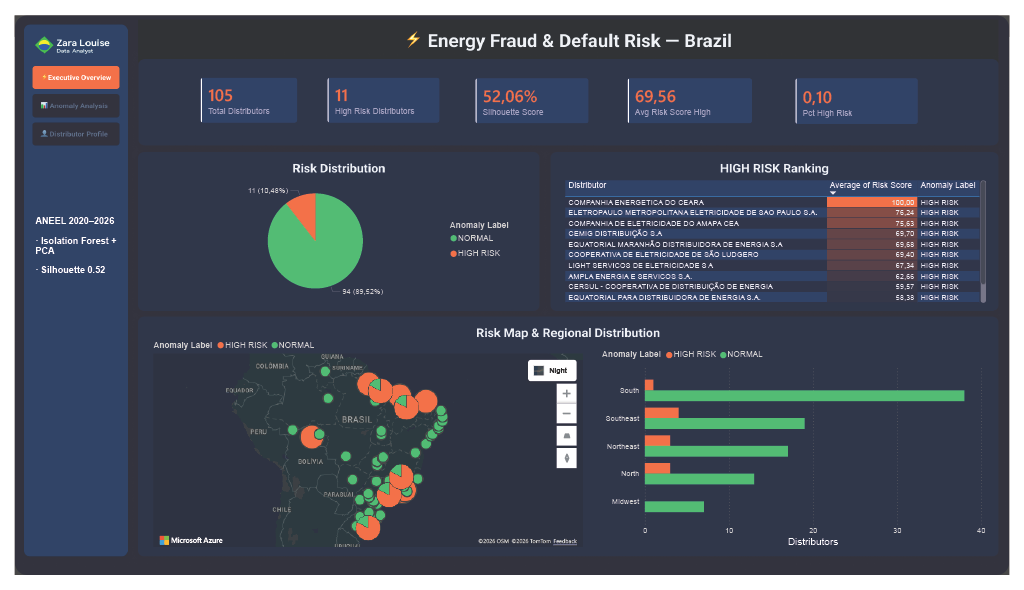

This screenshot's page, from the dashboard's own definition file:
{"tool":"powerbi","page":{"name":"Executive Overview","canvas":[1600,900],"ordinal":0},"visuals":[{"type":"azureMap","fields":{"Y":["dim_uf.latitude"],"X":["dim_uf.longitude"],"Series":["Risk Scores.anomaly_label"],"Size":["Avg(Risk Scores.risk_score)"]},"box":[218.1,509.9,701.3,349.9],"z":0},{"type":"textbox","box":[28.3,318.3,145,171.7],"z":1000},{"type":"cardVisual","fields":{"Data":["measures_.Total Distributors"]},"box":[282.1,83.5,189.8,106.7],"z":2000},{"type":"cardVisual","fields":{"Data":["measures_.High Risk Distributors"]},"box":[486.1,83.5,214.9,106.7],"z":3000},{"type":"cardVisual","fields":{"Data":["measures_.Silhouette Score"]},"box":[724.1,83.9,216.1,106.9],"z":4000},{"type":"cardVisual","fields":{"Data":["measures_.Avg Risk Score High"]},"box":[969,83.9,234.5,106.9],"z":5000},{"type":"cardVisual","fields":{"Data":["measures_.Pct High Risk"]},"box":[1239.3,84.4,231.6,107.4],"z":6000},{"type":"tableEx","fields":{"Values":["Risk Scores.distributor_name","Avg(Risk Scores.risk_score)","Risk Scores.anomaly_label"]},"box":[880,260,688.3,206.7],"z":7000},{"type":"pieChart","fields":{"Category":["Risk Scores.anomaly_label"],"Y":["measures_.Total Distributors"]},"box":[262.3,259.2,553.7,207.1],"z":8000},{"type":"clusteredBarChart","fields":{"Category":["risk_scores_region.region"],"Y":["Count(risk_scores_region.distributor_code)"],"Series":["risk_scores_region.anomaly_label"]},"box":[940.2,526.1,627.3,334.4],"z":9000},{"type":"actionButton","box":[28.1,125,146.1,39.8],"z":9001},{"type":"actionButton","box":[27.3,171.1,146.1,39.8],"z":9002}]}

Visuals, with their boxes in screenshot pixels (x1, y1, x2, y2), scaled from the page's 1600x900 canvas onto the 1024x590 screenshot:
azureMap - dim_uf.latitude x dim_uf.longitude: (x1=140, y1=334, x2=588, y2=564)
textbox: (x1=18, y1=209, x2=111, y2=321)
cardVisual - measures_.Total Distributors: (x1=181, y1=55, x2=302, y2=125)
cardVisual - measures_.High Risk Distributors: (x1=311, y1=55, x2=449, y2=125)
cardVisual - measures_.Silhouette Score: (x1=463, y1=55, x2=602, y2=125)
cardVisual - measures_.Avg Risk Score High: (x1=620, y1=55, x2=770, y2=125)
cardVisual - measures_.Pct High Risk: (x1=793, y1=55, x2=941, y2=126)
tableEx - Risk Scores.distributor_name x Avg(Risk Scores.risk_score): (x1=563, y1=170, x2=1004, y2=306)
pieChart - Risk Scores.anomaly_label x measures_.Total Distributors: (x1=168, y1=170, x2=522, y2=306)
clusteredBarChart - risk_scores_region.region x Count(risk_scores_region.distributor_code): (x1=602, y1=345, x2=1003, y2=564)
actionButton: (x1=18, y1=82, x2=111, y2=108)
actionButton: (x1=17, y1=112, x2=111, y2=138)
